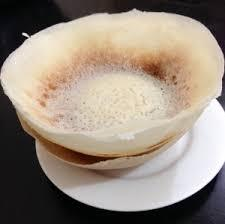Hoppers: (1, 11, 214, 158)
